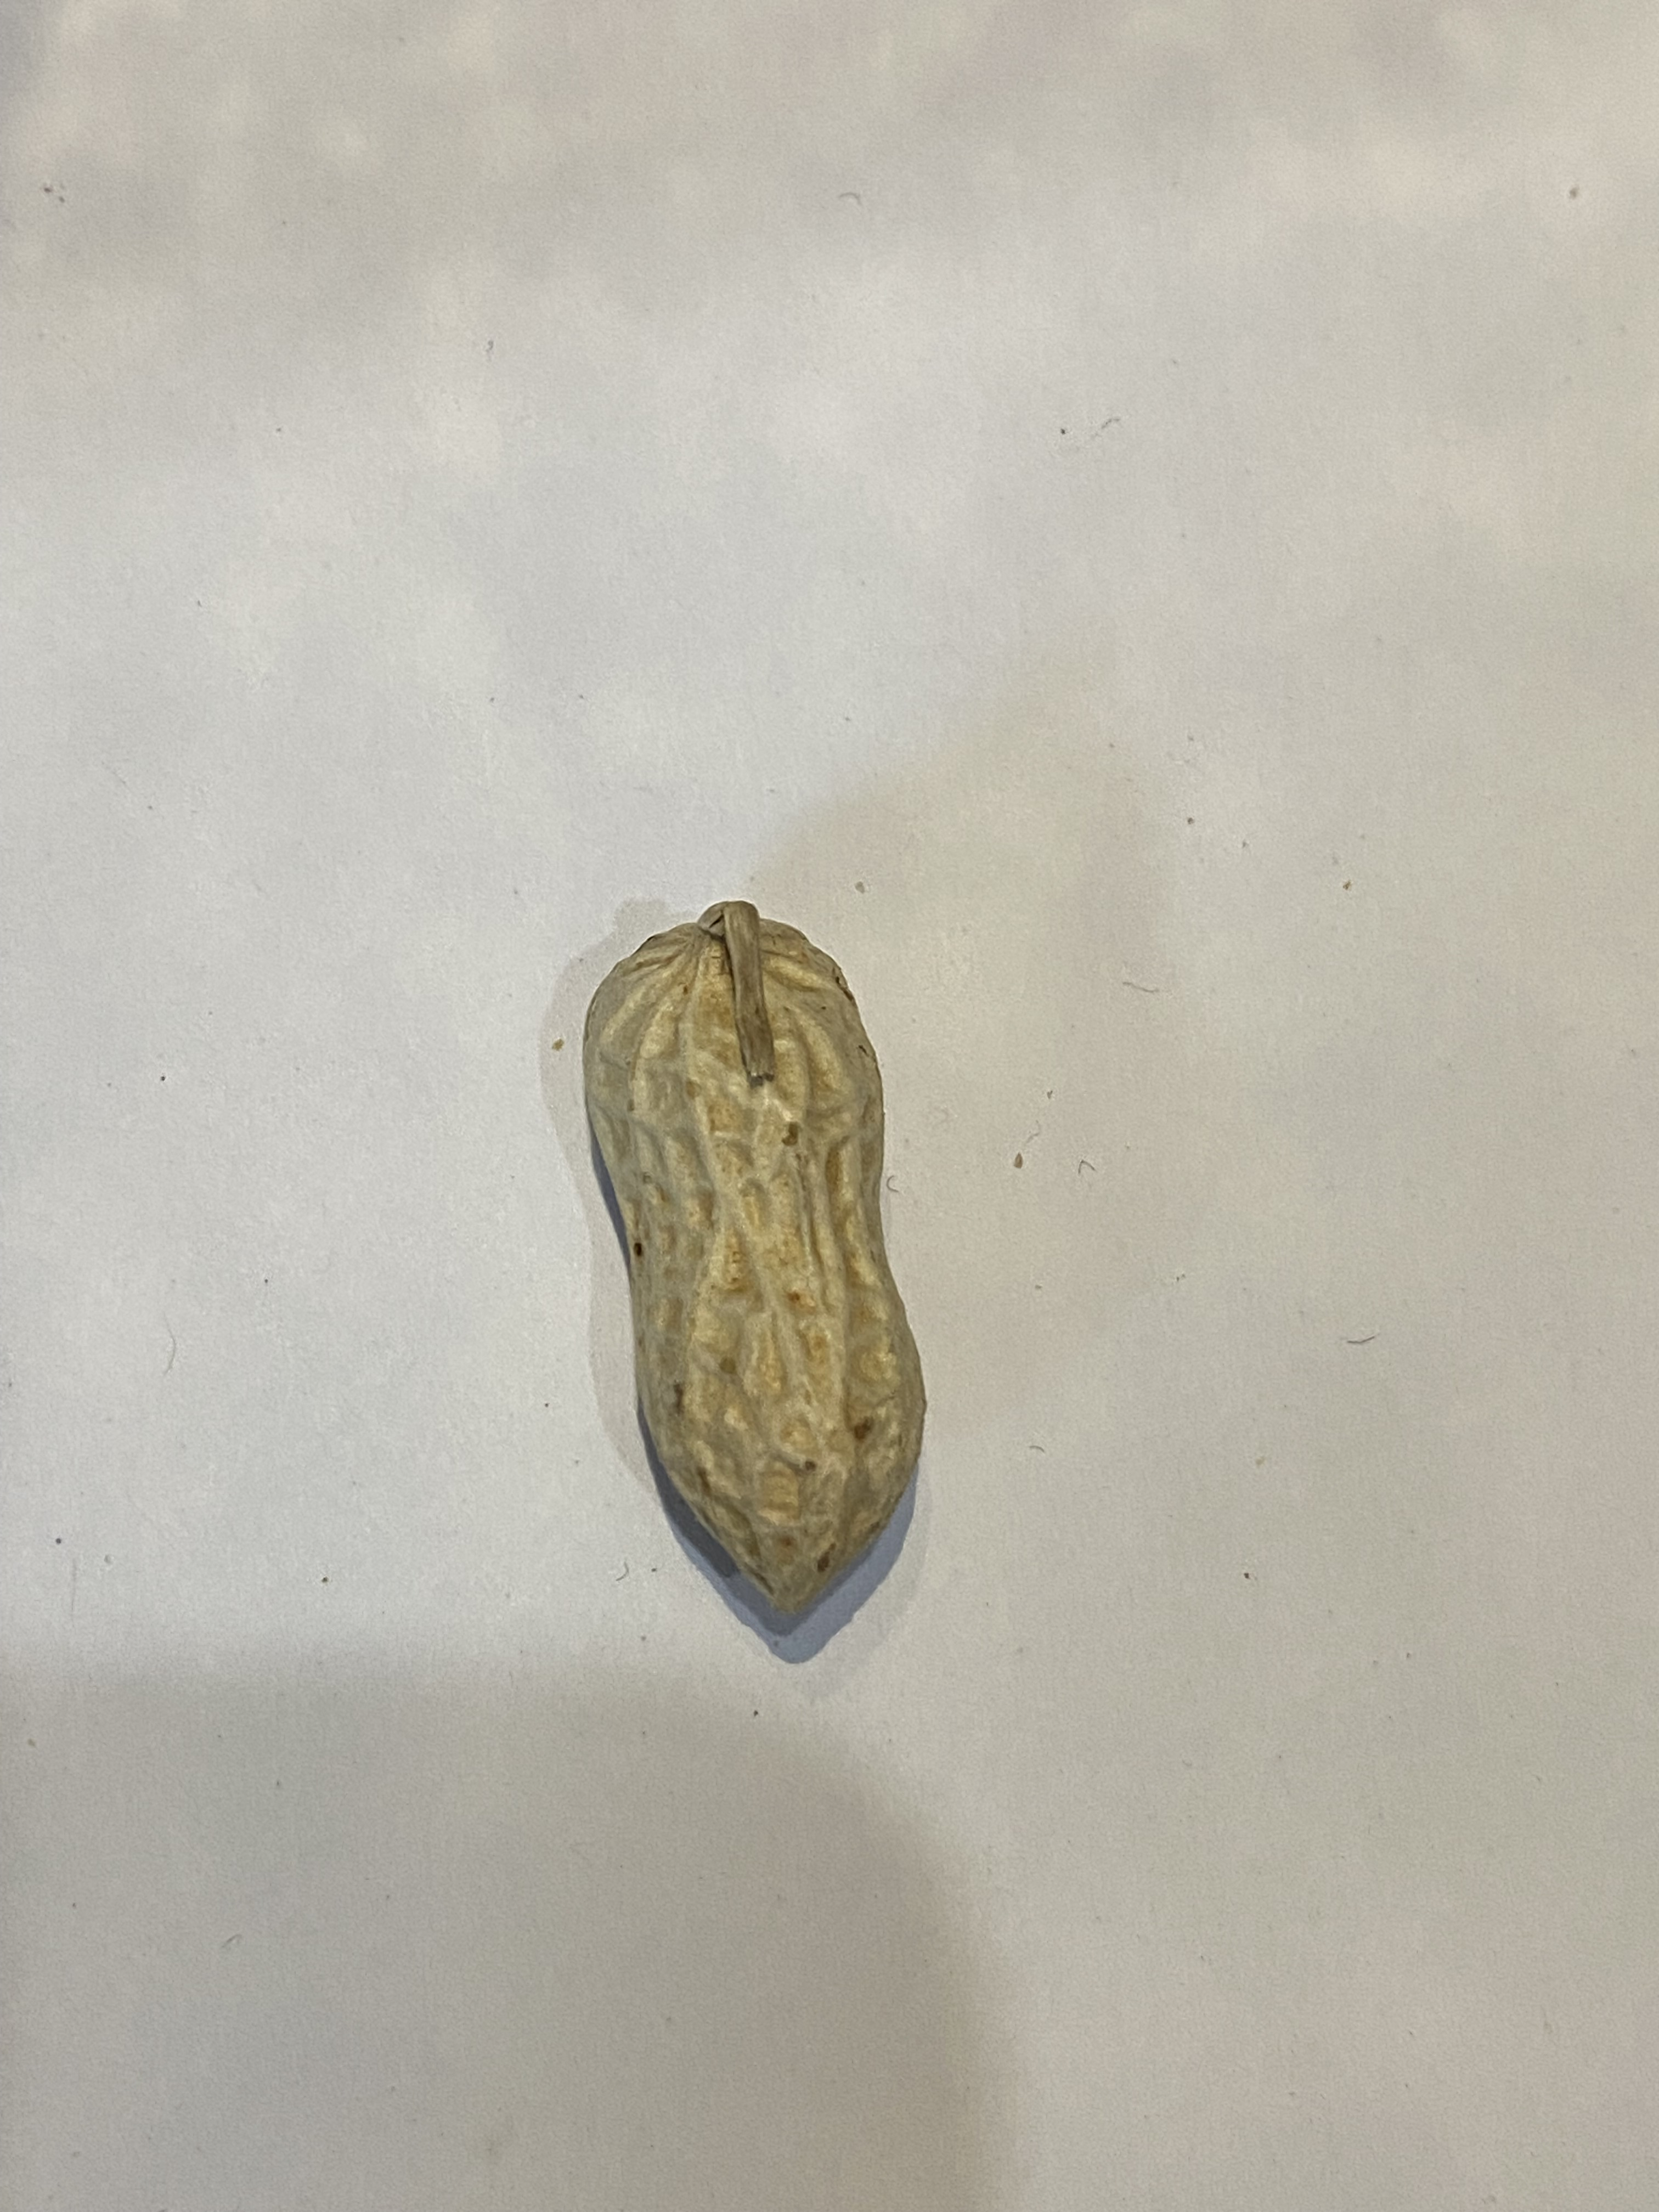kacang2: (558, 852, 941, 1623)
